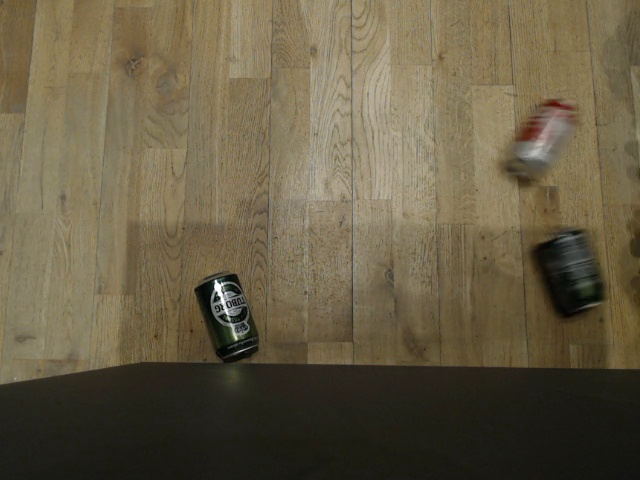beer: (534, 231, 605, 317), (195, 269, 259, 361)
cola: (503, 96, 576, 181)
